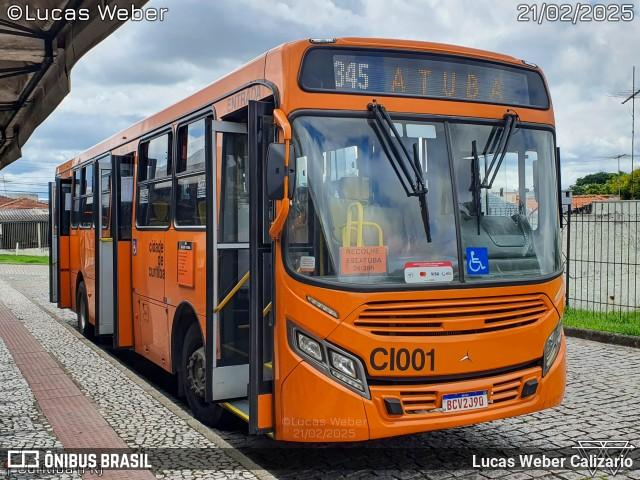ATUBA: (383, 58, 514, 107)
